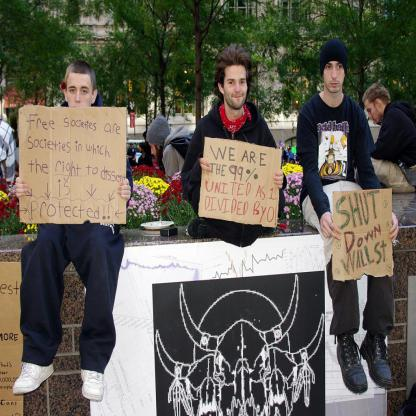face: (66, 77, 93, 118), (224, 67, 248, 109), (324, 56, 345, 93), (366, 98, 382, 123), (149, 139, 163, 159)
